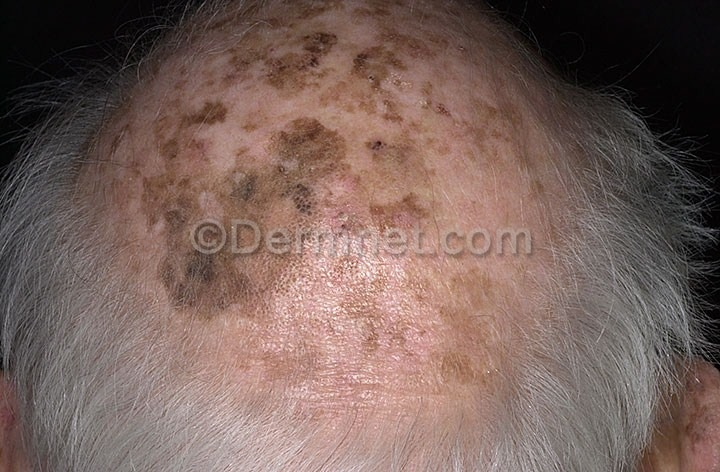Melasma: (338, 269, 482, 388), (140, 256, 295, 332), (277, 0, 417, 53)
